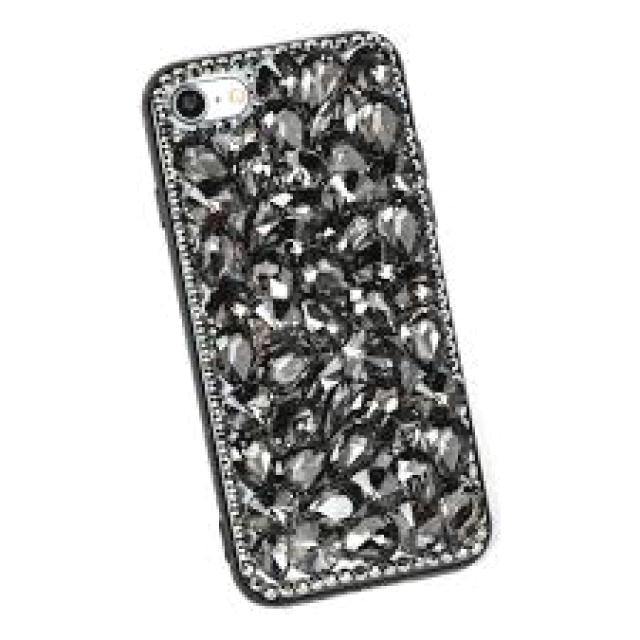lens: (163, 69, 249, 129)
phone: (142, 25, 496, 613)
